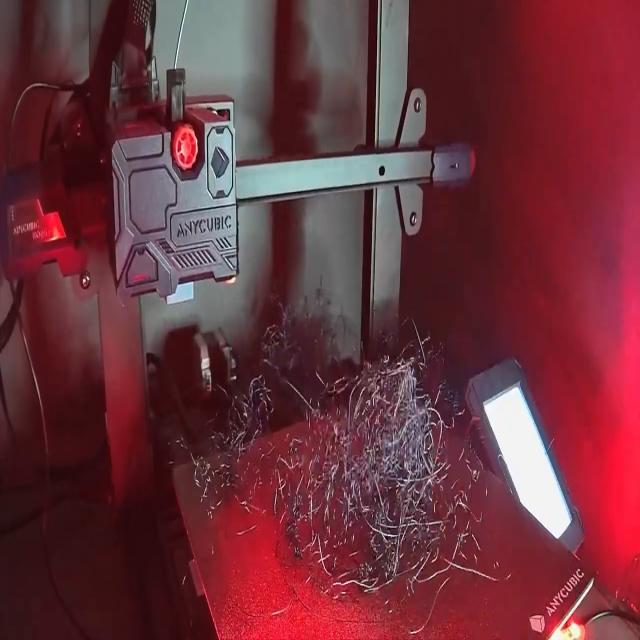spaghetti: (168, 272, 514, 640)
